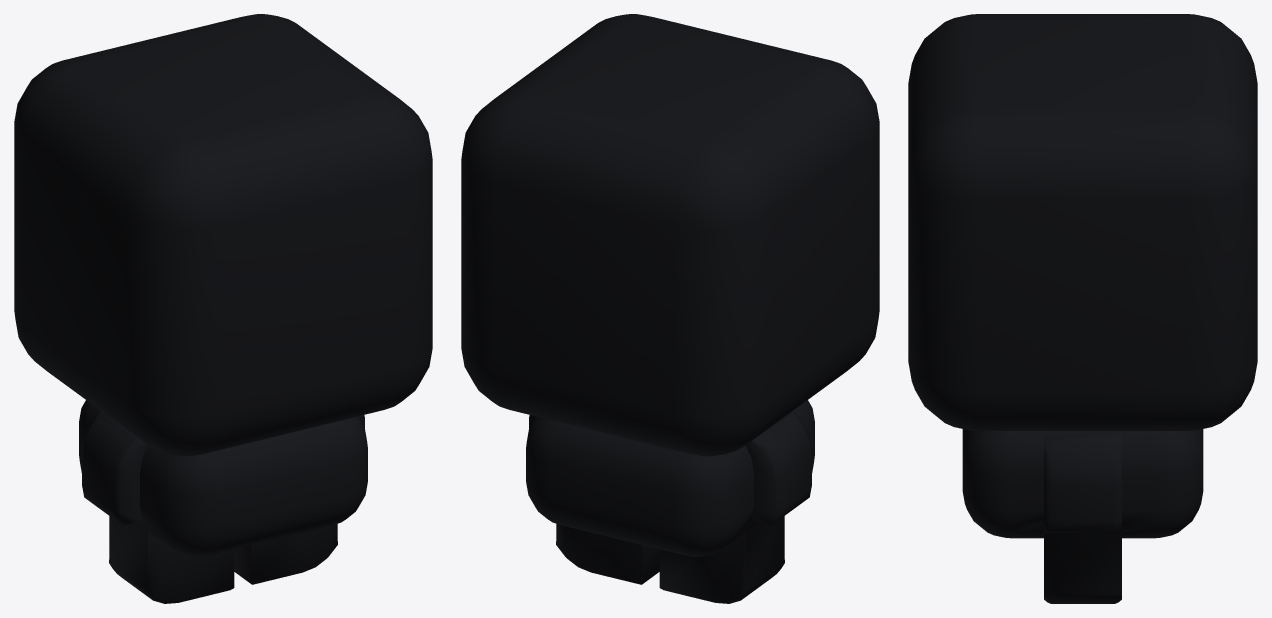
File: body-black.glb
3 views of the same model, side by side, from view 1: azimuth 30°, elevation 25°; view 2: azimuth 150°, elevation 25°; view 3: azimuth 270°, elevation 25° (orthographic).
Parts seen in each view (by area): view 1: body; view 2: body; view 3: body.
Boxes of the visible parts, left/top/right/bottom form: body: left=14, top=14, right=432, bottom=603; body: left=461, top=14, right=879, bottom=603; body: left=908, top=14, right=1257, bottom=603.
Bounding box in the file's own units: 39.78 × 63.45 × 39.78.
1 material, 1 textured.
